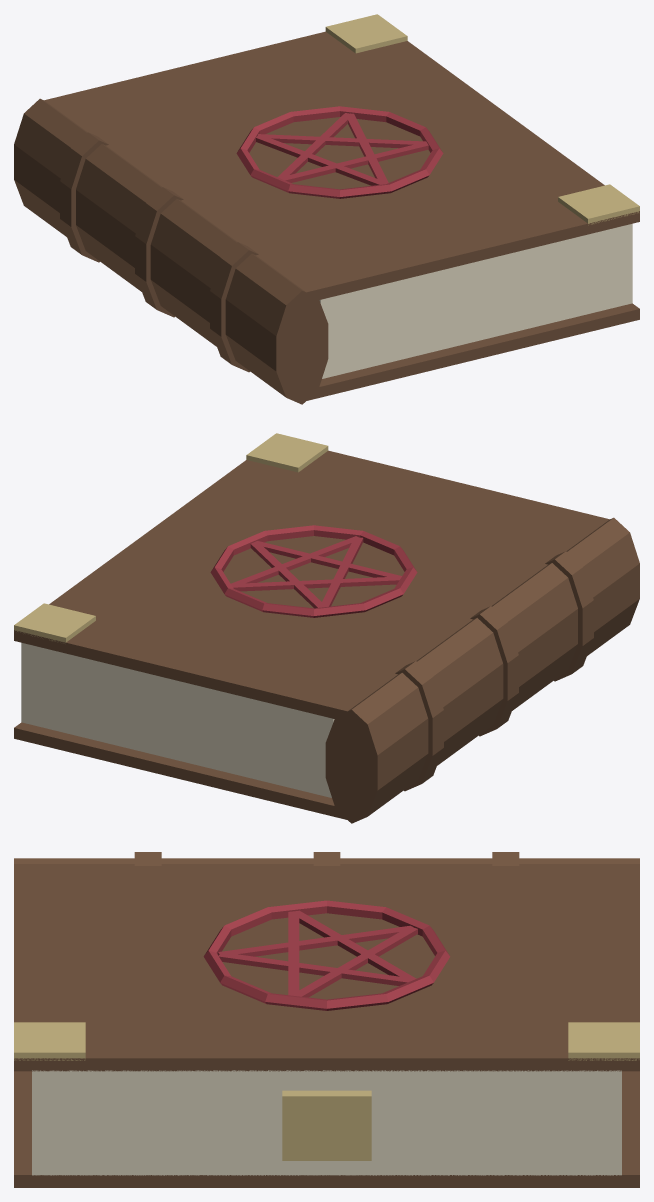
File: ritual_book.glb
3 renders of one model, top to bottom at view 1: azimuth 30°, elevation 25°; view 2: azimuth 150°, elevation 25°; view 3: azimuth 270°, elevation 25°, orthographic. The views are drawn at different scales.
Parts seen in each view (by area): view 1: Ritual_Book; view 2: Ritual_Book; view 3: Ritual_Book.
Boxes of the visible parts, x1=… form: Ritual_Book: x1=14, y1=14, x2=639, y2=404; Ritual_Book: x1=14, y1=433, x2=639, y2=823; Ritual_Book: x1=14, y1=852, x2=639, y2=1187.
Bounding box in the file's own units: 0.2909 × 0.0908 × 0.35.
